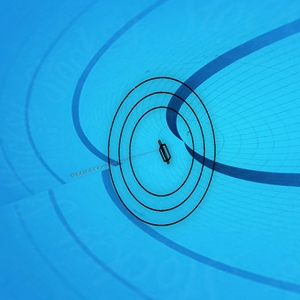circle: (104, 71, 214, 227)
submarine: (155, 141, 174, 166)
